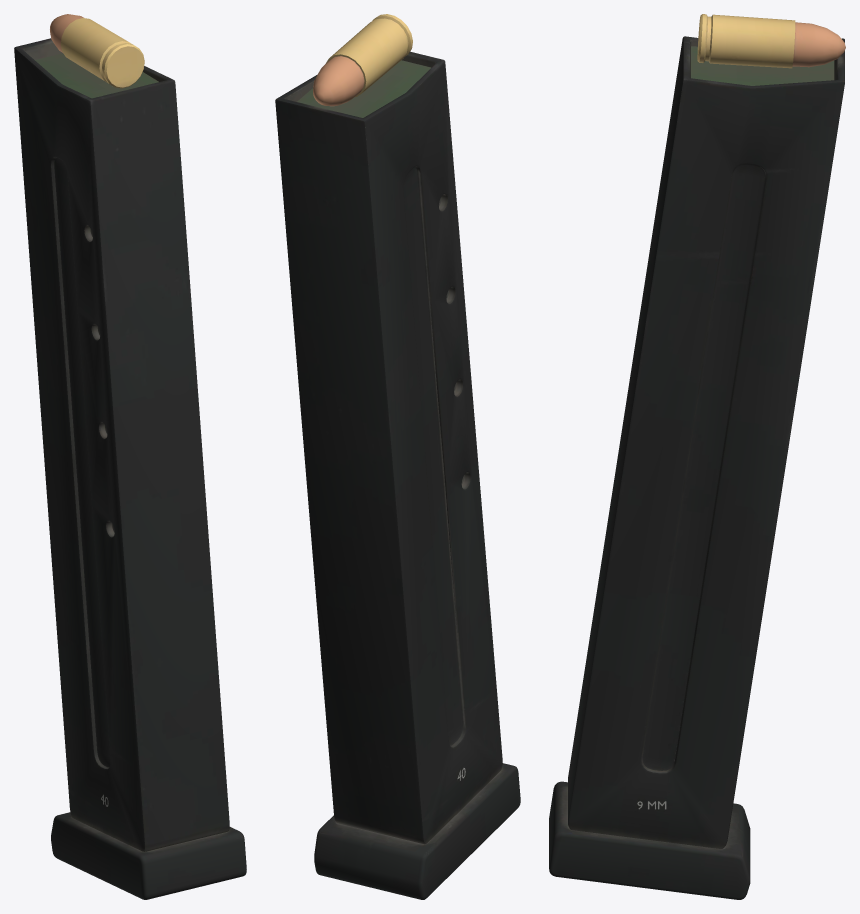
The model's file is carregador_smg_40.glb.
3 renders of one model, left to right at view 1: azimuth 30°, elevation 25°; view 2: azimuth 150°, elevation 25°; view 3: azimuth 270°, elevation 25°, orthographic. The views are drawn at different scales.
Visible parts, largest first — view 1: carregador_smg_40_carregador; view 2: carregador_smg_40_carregador; view 3: carregador_smg_40_carregador.
Part boxes in pixels (x1,y1,x2,y2): carregador_smg_40_carregador: (14, 14, 246, 899); carregador_smg_40_carregador: (275, 14, 520, 899); carregador_smg_40_carregador: (549, 14, 845, 899).
Bounding box in the file's own units: 0.0252 × 0.1903 × 0.0597.
Materials: 1 (1 with a texture image).
